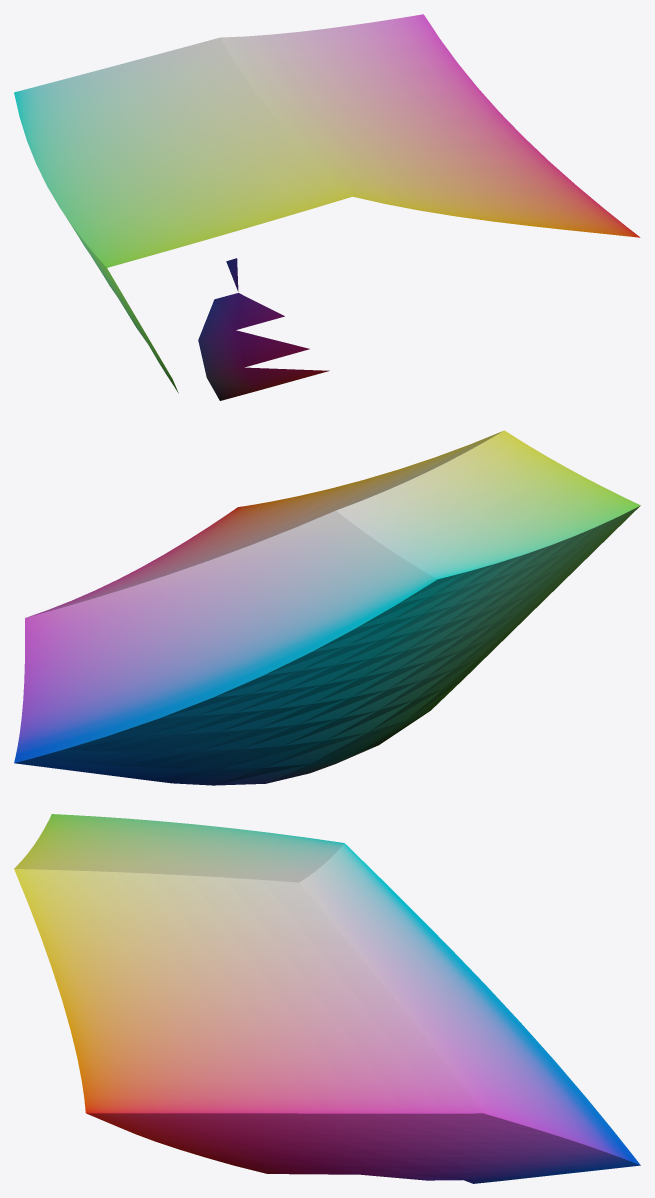
The model's file is sRGB_in_abL_output(53).glb.
The picture shows the model from 3 angles, top to bottom: view 1: azimuth 30°, elevation 25°; view 2: azimuth 150°, elevation 25°; view 3: azimuth 270°, elevation 25°; orthographic projection. The views are drawn at different scales.
Parts seen in each view (by area): view 1: world; view 2: world; view 3: world.
Part boxes in pixels (<box>): world: <box>14,14,640,400</box>; world: <box>14,430,640,785</box>; world: <box>14,814,640,1183</box>.
Size of the model in its own units: 173 by 100 by 205.
